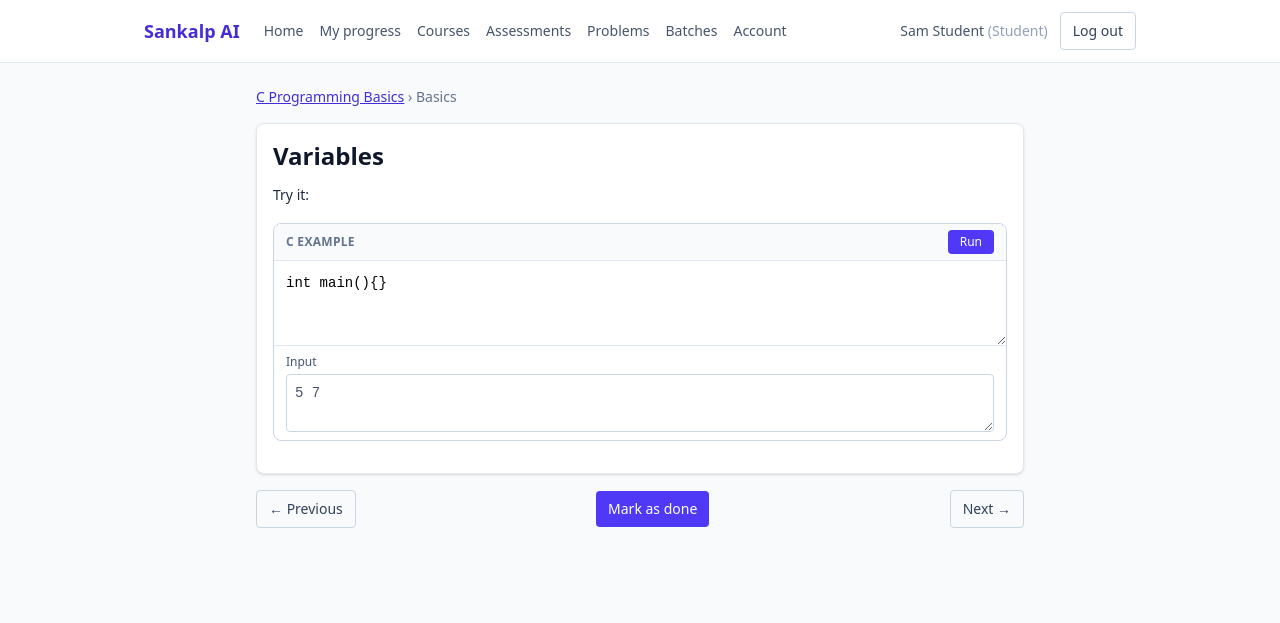
Test case: lesson page › runnable examples › shows compiler errors
Click the button "Run" at [971, 242], box [948, 230, 994, 254]
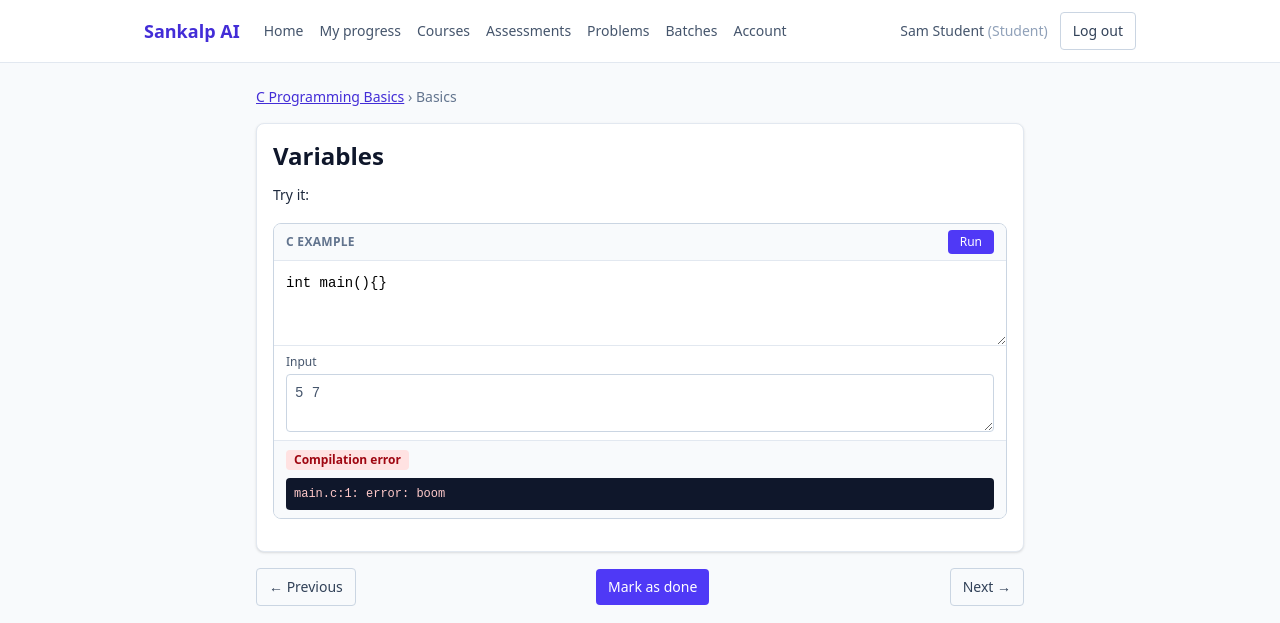
Expected: the text "Compilation error" is shown, [286, 450, 409, 470]
Expected: the text "main.c:1: error: boom" is shown, [286, 478, 994, 510]
